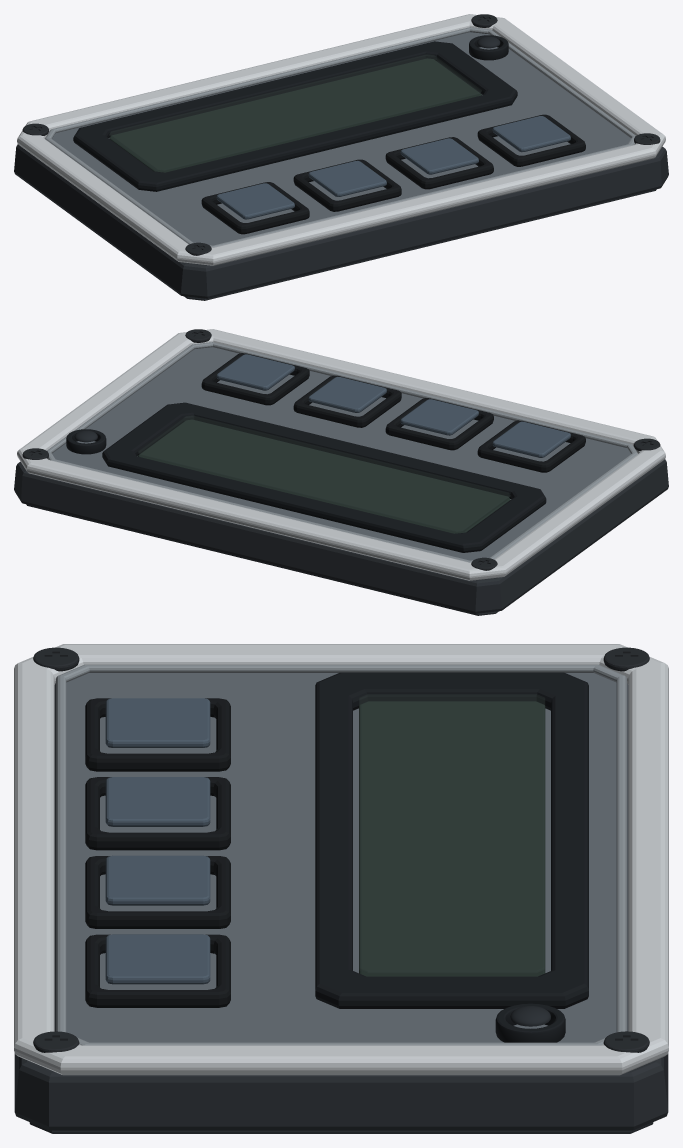
Rendered from Module01_Gokturk.fbx.
The picture shows the model from 3 angles, top to bottom: view 1: azimuth 30°, elevation 25°; view 2: azimuth 150°, elevation 25°; view 3: azimuth 270°, elevation 25°; orthographic projection. The views are drawn at different scales.
Parts seen in each view (by area): view 1: M01_OuterFrame, M01_MainBody, M01_FrontFaceplate, M01_ScreenGlass, M01_ScreenPanel, M01_ScreenFrame, M01_InnerBorder, M01_Button_03_Cap, M01_Button_04_Cap, M01_Button_01_Cap, M01_Button_02_Cap, M01_Button_02_Housing (+5 smaller); view 2: M01_OuterFrame, M01_FrontFaceplate, M01_MainBody, M01_ScreenGlass, M01_ScreenPanel, M01_ScreenFrame, M01_InnerBorder, M01_Button_04_Cap, M01_Button_02_Cap, M01_Button_01_Cap, M01_Button_03_Cap, M01_Button_02_Housing (+5 smaller); view 3: M01_FrontFaceplate, M01_OuterFrame, M01_ScreenGlass, M01_ScreenPanel, M01_ScreenFrame, M01_MainBody, M01_InnerBorder, M01_Button_03_Cap, M01_Button_04_Cap, M01_Button_01_Cap, M01_Button_02_Cap, M01_Button_01_Housing (+9 smaller).
Part boxes in pixels (left/top/right/bottom): M01_OuterFrame: left=17, top=14, right=665, bottom=265; M01_MainBody: left=14, top=144, right=668, bottom=298; M01_FrontFaceplate: left=52, top=32, right=630, bottom=245; M01_ScreenGlass: left=109, top=54, right=481, bottom=170; M01_ScreenPanel: left=109, top=58, right=481, bottom=172; M01_ScreenFrame: left=73, top=41, right=517, bottom=191; M01_InnerBorder: left=45, top=27, right=635, bottom=247; M01_Button_03_Cap: left=400, top=138, right=478, bottom=174; M01_Button_04_Cap: left=492, top=116, right=570, bottom=152; M01_Button_01_Cap: left=216, top=183, right=294, bottom=219; M01_Button_02_Cap: left=308, top=160, right=386, bottom=196; M01_Button_02_Housing: left=293, top=159, right=401, bottom=211; M01_OuterFrame: left=17, top=329, right=665, bottom=580; M01_FrontFaceplate: left=52, top=347, right=630, bottom=560; M01_MainBody: left=14, top=459, right=668, bottom=613; M01_ScreenGlass: left=138, top=415, right=510, bottom=531; M01_ScreenPanel: left=138, top=419, right=510, bottom=533; M01_ScreenFrame: left=102, top=402, right=546, bottom=552; M01_InnerBorder: left=47, top=342, right=637, bottom=562; M01_Button_04_Cap: left=216, top=354, right=294, bottom=390; M01_Button_02_Cap: left=400, top=399, right=478, bottom=435; M01_Button_01_Cap: left=492, top=421, right=570, bottom=457; M01_Button_03_Cap: left=308, top=376, right=386, bottom=412; M01_Button_02_Housing: left=385, top=398, right=493, bottom=450; M01_FrontFaceplate: left=54, top=673, right=628, bottom=1042; M01_OuterFrame: left=14, top=644, right=668, bottom=1075; M01_ScreenGlass: left=359, top=694, right=544, bottom=973; M01_ScreenPanel: left=359, top=701, right=545, bottom=976; M01_ScreenFrame: left=315, top=672, right=588, bottom=1008; M01_MainBody: left=14, top=1053, right=668, bottom=1130; M01_InnerBorder: left=56, top=664, right=626, bottom=1045; M01_Button_03_Cap: left=105, top=855, right=210, bottom=905; M01_Button_04_Cap: left=105, top=934, right=210, bottom=984; M01_Button_01_Cap: left=105, top=698, right=210, bottom=747; M01_Button_02_Cap: left=105, top=777, right=210, bottom=826; M01_Button_01_Housing: left=85, top=698, right=230, bottom=771.
Size of the model in its own units: 0.34 by 0.036 by 0.225.
